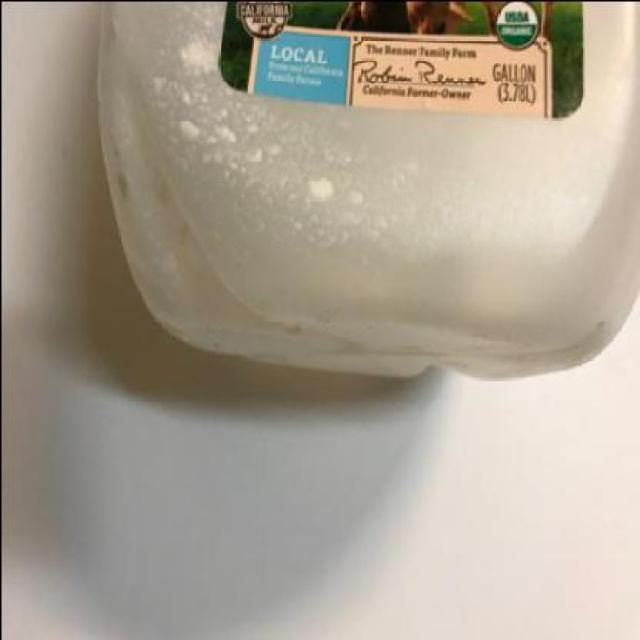PLASTIC: (98, 2, 639, 380)
